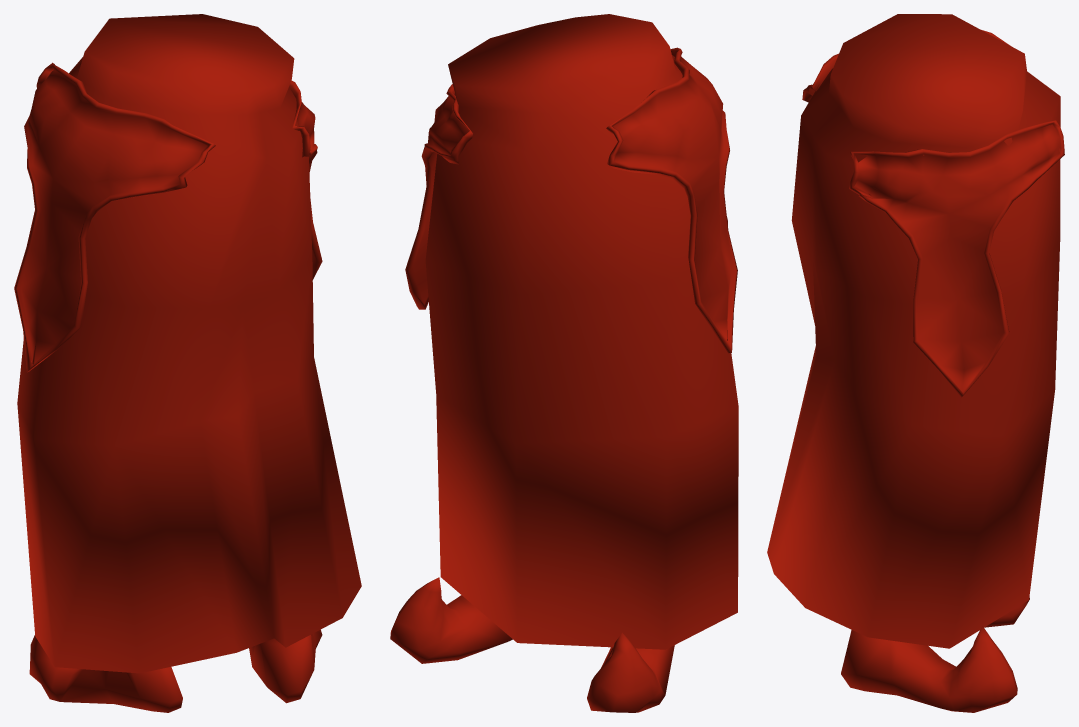
Rendered from bot_000145.obj.
3 views of the same model, side by side, from view 1: azimuth 30°, elevation 25°; view 2: azimuth 150°, elevation 25°; view 3: azimuth 270°, elevation 25° (orthographic). The views are drawn at different scales.
Parts seen in each view (by area): view 1: LowPoly_Warlock.004_Plane.004; view 2: LowPoly_Warlock.004_Plane.004; view 3: LowPoly_Warlock.004_Plane.004.
Part boxes in pixels (x1,y1,x2,y2): LowPoly_Warlock.004_Plane.004: [14, 14, 361, 712]; LowPoly_Warlock.004_Plane.004: [390, 14, 738, 712]; LowPoly_Warlock.004_Plane.004: [767, 14, 1064, 712].
Bounding box in the file's own units: 0.5627 × 1.12 × 0.5002.
